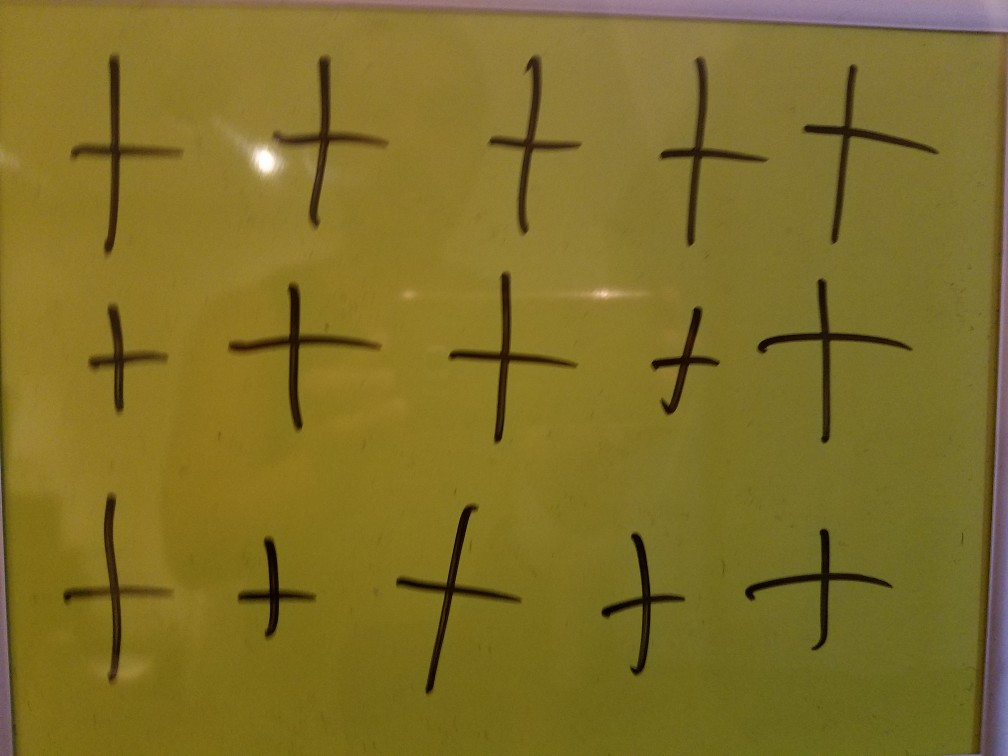+: (27, 470, 200, 704), (383, 471, 532, 706), (248, 35, 413, 240), (789, 45, 942, 264), (42, 38, 186, 270), (752, 277, 921, 462), (636, 34, 770, 258), (434, 254, 583, 450), (732, 505, 901, 670), (464, 39, 601, 240), (222, 280, 387, 442), (580, 515, 711, 692), (227, 512, 327, 658), (82, 289, 176, 421), (639, 294, 723, 423)
